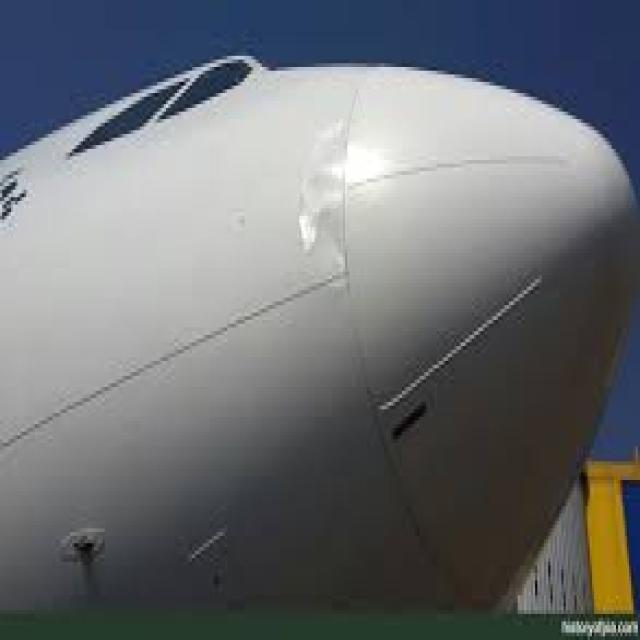Dent: (298, 125, 349, 250)
